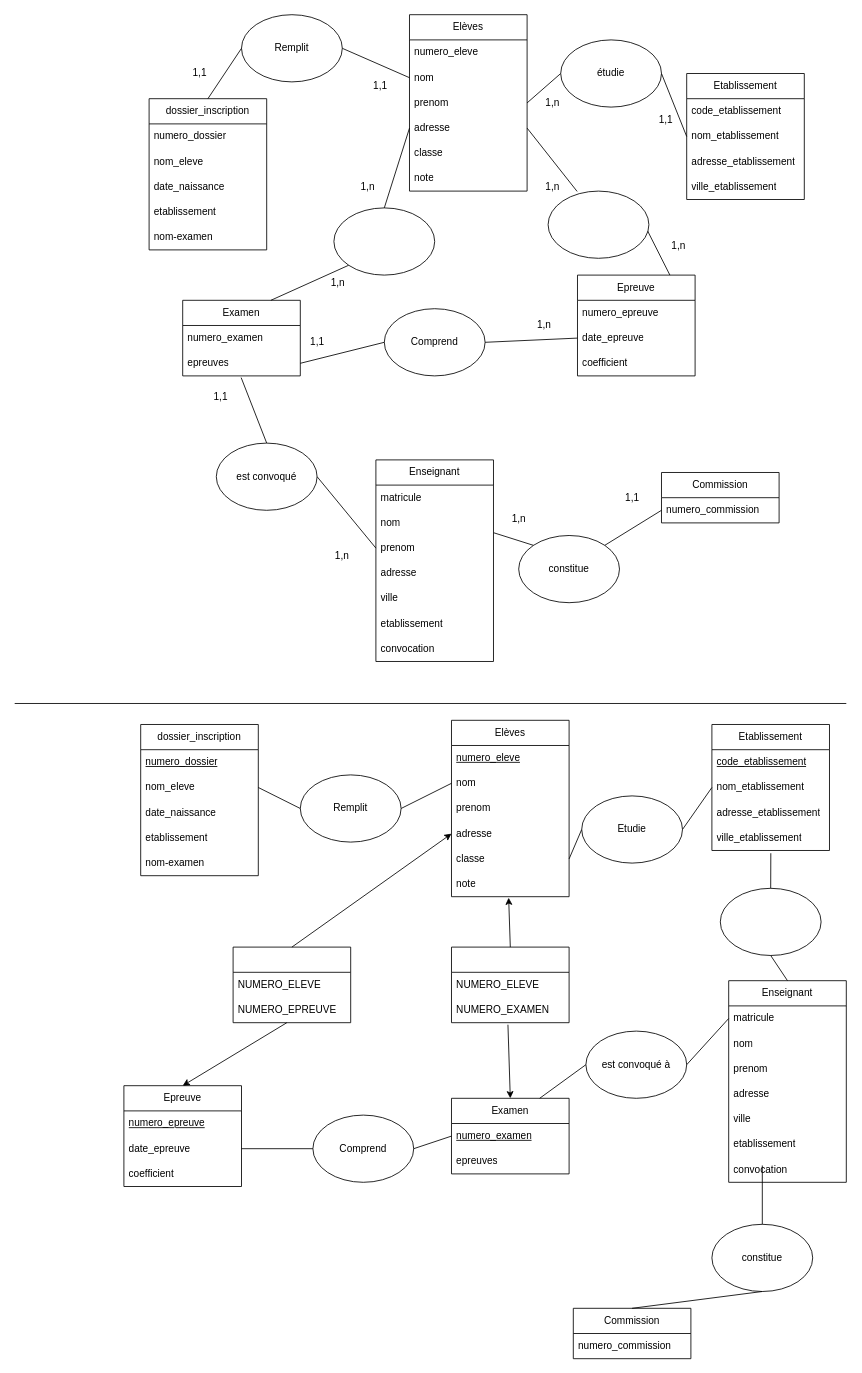
This 862x1373 diagram has some shape labels left out. The shapes that lost their labels are listed below. From the top down, each one's box as (x1, y1, x2, y2) in pixels, then its label:
(333, 207, 435, 275): passe
(547, 190, 649, 258): Participe
(719, 887, 821, 956): Travaille
(232, 946, 351, 1023): ELEVE_EPREUVE
(451, 946, 569, 1023): ELEVES_EXAMEN
